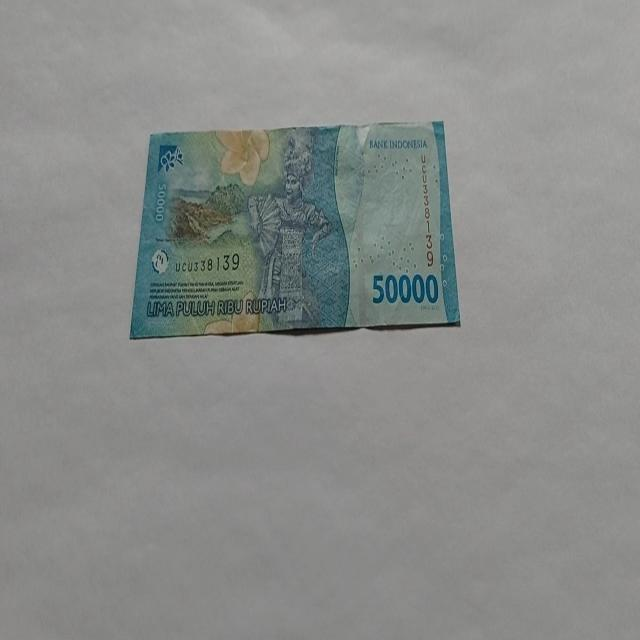lima puluh ribu rupiah: (128, 119, 462, 340)
